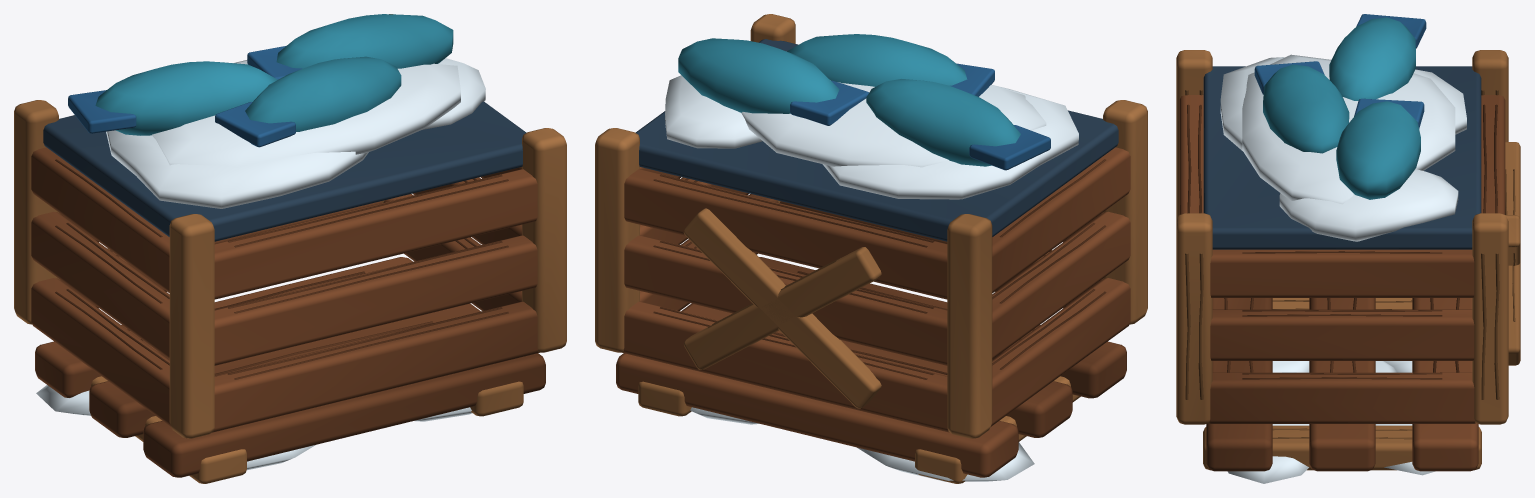
File: fish_crate.glb
3 renders of one model, left to right at view 1: azimuth 30°, elevation 25°; view 2: azimuth 150°, elevation 25°; view 3: azimuth 270°, elevation 25°, orthographic. The views are drawn at different scales.
Visible parts, largest first — view 1: fish_crate; view 2: fish_crate; view 3: fish_crate.
Boxes of the visible parts, box(x1,y1,x2,y2) form: fish_crate: box(14, 14, 566, 483); fish_crate: box(595, 14, 1147, 483); fish_crate: box(1176, 14, 1520, 483).
Bounding box in the file's own units: 1.45 × 1.21 × 1.14.
